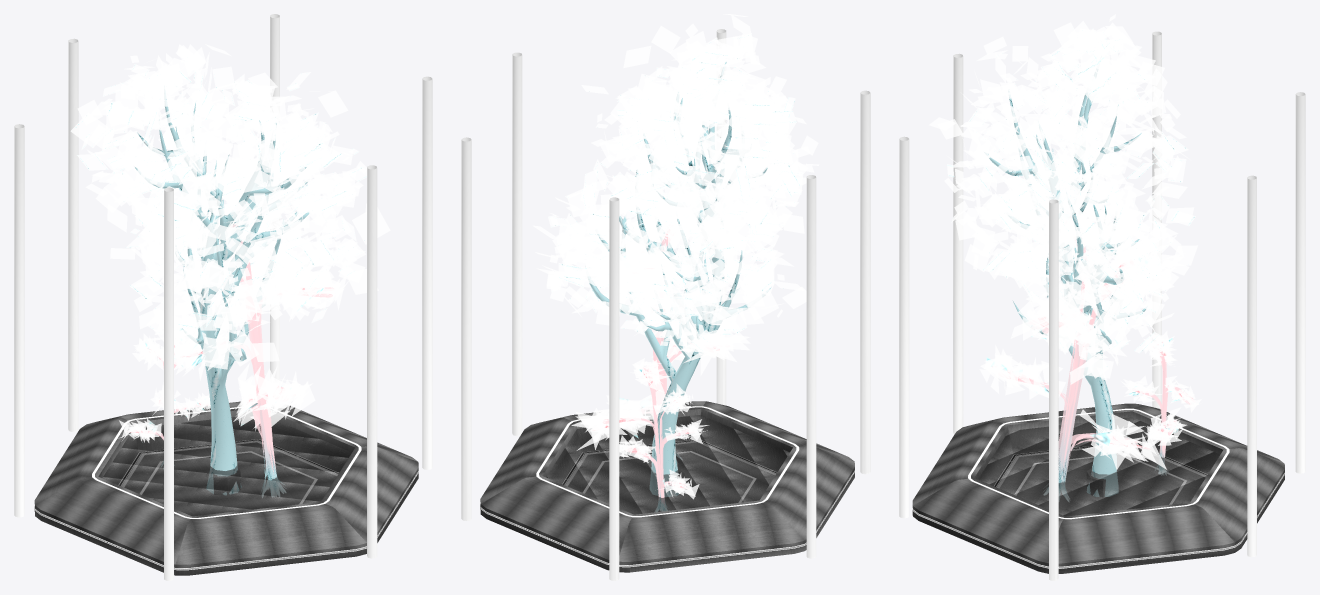
Rendered from propShrineglb.glb.
The picture shows the model from 3 angles, left to right: view 1: azimuth 30°, elevation 25°; view 2: azimuth 150°, elevation 25°; view 3: azimuth 270°, elevation 25°; orthographic projection. The views are drawn at different scales.
Visible parts, largest first — view 1: SM_TEST_Tree.002_M_Foliage_0, propShrine, Water_Plane.002_M_Water_Standard.006_0, SM_TEST_Tree.002_M_Emissive_Engineering.017_0, PF_Centrepiece_Planter (2)_M_Base_DarkGrey.024_0, Point.052_M_Tree_Leaves.003_0, SM_GodRayBeam_01 (1).002_M_GodRay.001_0, SM_GodRayBeam_01 (3).002_M_GodRay.001_0, SM_GodRayBeam_01 (4).002_M_GodRay.001_0, SM_GodRayBeam_01 (6).002_M_GodRay.001_0, SM_GodRayBeam_01 (2).002_M_GodRay.001_0, PF_Centrepiece_Planter (2)_M_TrimSheet_Generic_V1.022_0 (+3 smaller); view 2: SM_TEST_Tree.002_M_Foliage_0, propShrine, Water_Plane.002_M_Water_Standard.006_0, PF_Centrepiece_Planter (2)_M_Base_DarkGrey.024_0, SM_TEST_Tree.002_M_Emissive_Engineering.017_0, Point.052_M_Tree_Leaves.003_0, SM_GodRayBeam_01 (2).002_M_GodRay.001_0, SM_GodRayBeam_01 (5).002_M_GodRay.001_0, SM_GodRayBeam_01 (1).002_M_GodRay.001_0, SM_GodRayBeam_01 (6).002_M_GodRay.001_0, SM_GodRayBeam_01 (4).002_M_GodRay.001_0, Point.054_M_Tree_Leaves.003_0 (+4 smaller); view 3: SM_TEST_Tree.002_M_Foliage_0, propShrine, Water_Plane.002_M_Water_Standard.006_0, PF_Centrepiece_Planter (2)_M_Base_DarkGrey.024_0, Point.052_M_Tree_Leaves.003_0, SM_TEST_Tree.002_M_Emissive_Engineering.017_0, SM_GodRayBeam_01 (6).002_M_GodRay.001_0, SM_GodRayBeam_01 (3).002_M_GodRay.001_0, SM_GodRayBeam_01 (2).002_M_GodRay.001_0, SM_GodRayBeam_01 (4).002_M_GodRay.001_0, SM_GodRayBeam_01 (5).002_M_GodRay.001_0, PF_Centrepiece_Planter (2)_M_TrimSheet_Generic_V1.022_0 (+4 smaller).
Part boxes in pixels (<box>): SM_TEST_Tree.002_M_Foliage_0: <box>70,44,390,369</box>; propShrine: <box>34,401,418,567</box>; Water_Plane.002_M_Water_Standard.006_0: <box>102,416,351,516</box>; SM_TEST_Tree.002_M_Emissive_Engineering.017_0: <box>135,92,309,495</box>; PF_Centrepiece_Planter (2)_M_Base_DarkGrey.024_0: <box>34,453,418,575</box>; Point.052_M_Tree_Leaves.003_0: <box>162,205,350,431</box>; SM_GodRayBeam_01 (1).002_M_GodRay.001_0: <box>14,124,24,517</box>; SM_GodRayBeam_01 (3).002_M_GodRay.001_0: <box>367,165,377,558</box>; SM_GodRayBeam_01 (4).002_M_GodRay.001_0: <box>422,76,432,469</box>; SM_GodRayBeam_01 (6).002_M_GodRay.001_0: <box>68,38,78,431</box>; SM_GodRayBeam_01 (2).002_M_GodRay.001_0: <box>164,187,173,580</box>; PF_Centrepiece_Planter (2)_M_TrimSheet_Generic_V1.022_0: <box>34,407,418,570</box>; SM_TEST_Tree.002_M_Foliage_0: <box>533,14,819,359</box>; propShrine: <box>480,401,854,565</box>; Water_Plane.002_M_Water_Standard.006_0: <box>546,415,789,514</box>; PF_Centrepiece_Planter (2)_M_Base_DarkGrey.024_0: <box>480,452,854,572</box>; SM_TEST_Tree.002_M_Emissive_Engineering.017_0: <box>588,62,771,496</box>; Point.052_M_Tree_Leaves.003_0: <box>571,186,750,450</box>; SM_GodRayBeam_01 (2).002_M_GodRay.001_0: <box>860,90,870,474</box>; SM_GodRayBeam_01 (5).002_M_GodRay.001_0: <box>461,137,471,520</box>; SM_GodRayBeam_01 (1).002_M_GodRay.001_0: <box>806,175,816,558</box>; SM_GodRayBeam_01 (6).002_M_GodRay.001_0: <box>609,197,619,580</box>; SM_GodRayBeam_01 (4).002_M_GodRay.001_0: <box>512,52,522,435</box>; Point.054_M_Tree_Leaves.003_0: <box>596,358,709,499</box>; SM_TEST_Tree.002_M_Foliage_0: <box>929,14,1197,384</box>; propShrine: <box>912,403,1284,566</box>; Water_Plane.002_M_Water_Standard.006_0: <box>978,417,1219,516</box>; PF_Centrepiece_Planter (2)_M_Base_DarkGrey.024_0: <box>912,458,1284,573</box>; Point.052_M_Tree_Leaves.003_0: <box>979,199,1168,469</box>; SM_TEST_Tree.002_M_Emissive_Engineering.017_0: <box>984,69,1146,496</box>; SM_GodRayBeam_01 (6).002_M_GodRay.001_0: <box>1295,92,1305,473</box>; SM_GodRayBeam_01 (3).002_M_GodRay.001_0: <box>899,136,909,518</box>; SM_GodRayBeam_01 (2).002_M_GodRay.001_0: <box>953,53,963,434</box>; SM_GodRayBeam_01 (4).002_M_GodRay.001_0: <box>1049,199,1058,580</box>; SM_GodRayBeam_01 (5).002_M_GodRay.001_0: <box>1247,175,1256,557</box>; PF_Centrepiece_Planter (2)_M_TrimSheet_Generic_V1.022_0: <box>912,408,1284,568</box>.
Bounding box in the file's own units: 11.72 × 14.56 × 11.7.
Materials: 10 (9 with a texture image).
